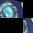bar: (0, 18, 23, 33)
mirror: (0, 0, 23, 18)
